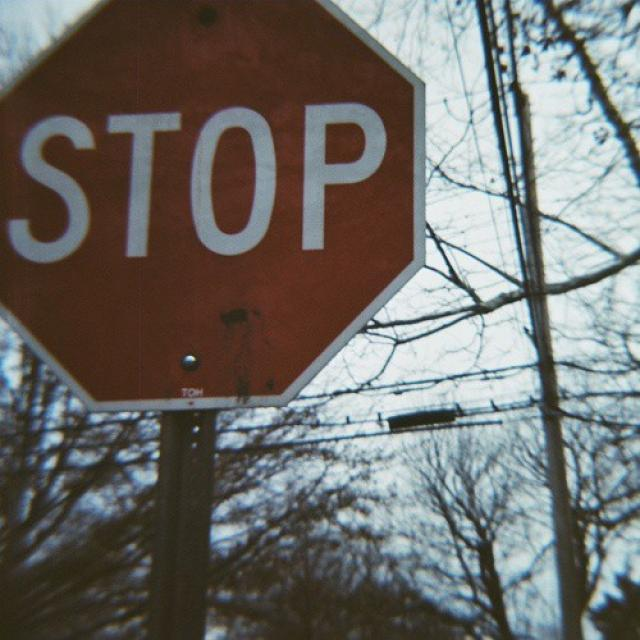stop: (0, 0, 428, 413)
